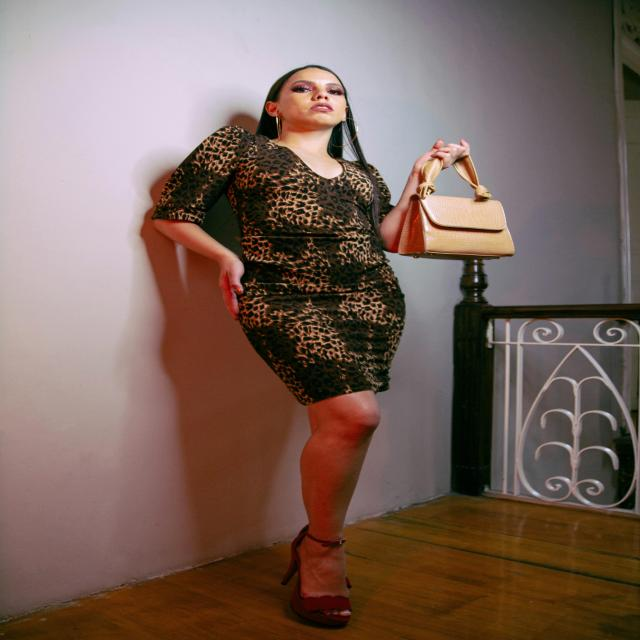bolsa: (396, 149, 520, 260)
